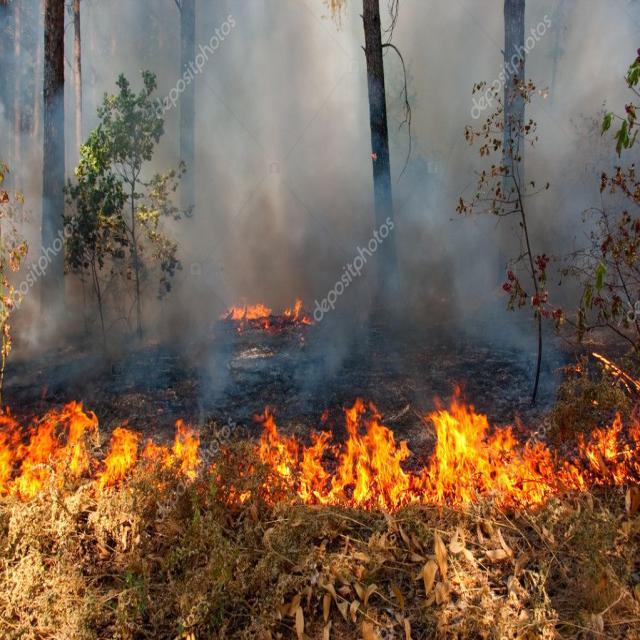Fire: (4, 379, 640, 533)
Smoke: (2, 0, 640, 417)
